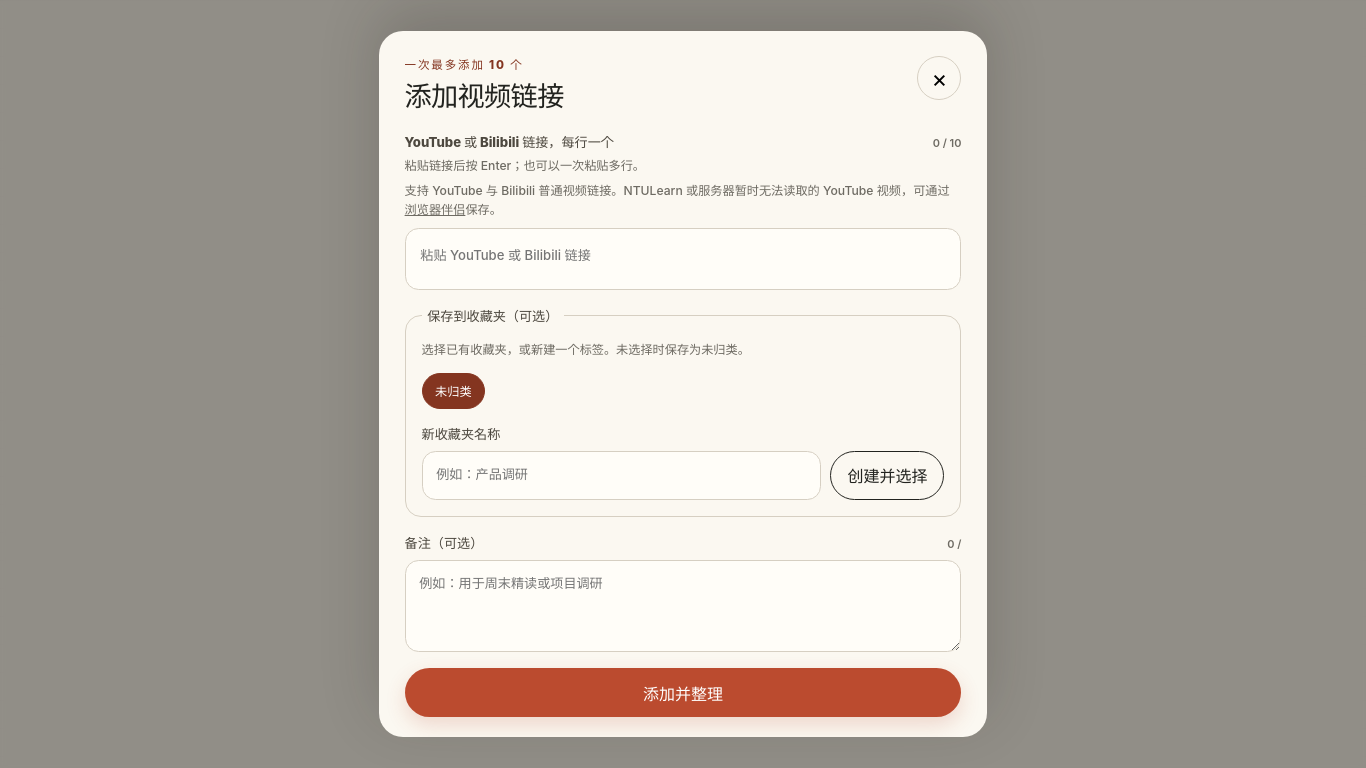
Scenario: add videos dialog › starts with a compact URL input and turns confirmed links into removable tags
The image size is (1366, 768).
Type "https://youtu.be/first" into the text box labelled "YouTube 或 Bilibili 链接，每行一个".
click(683, 258); type("https://youtu.be/first")  # box top-left (414, 237), bottom-right (952, 278)
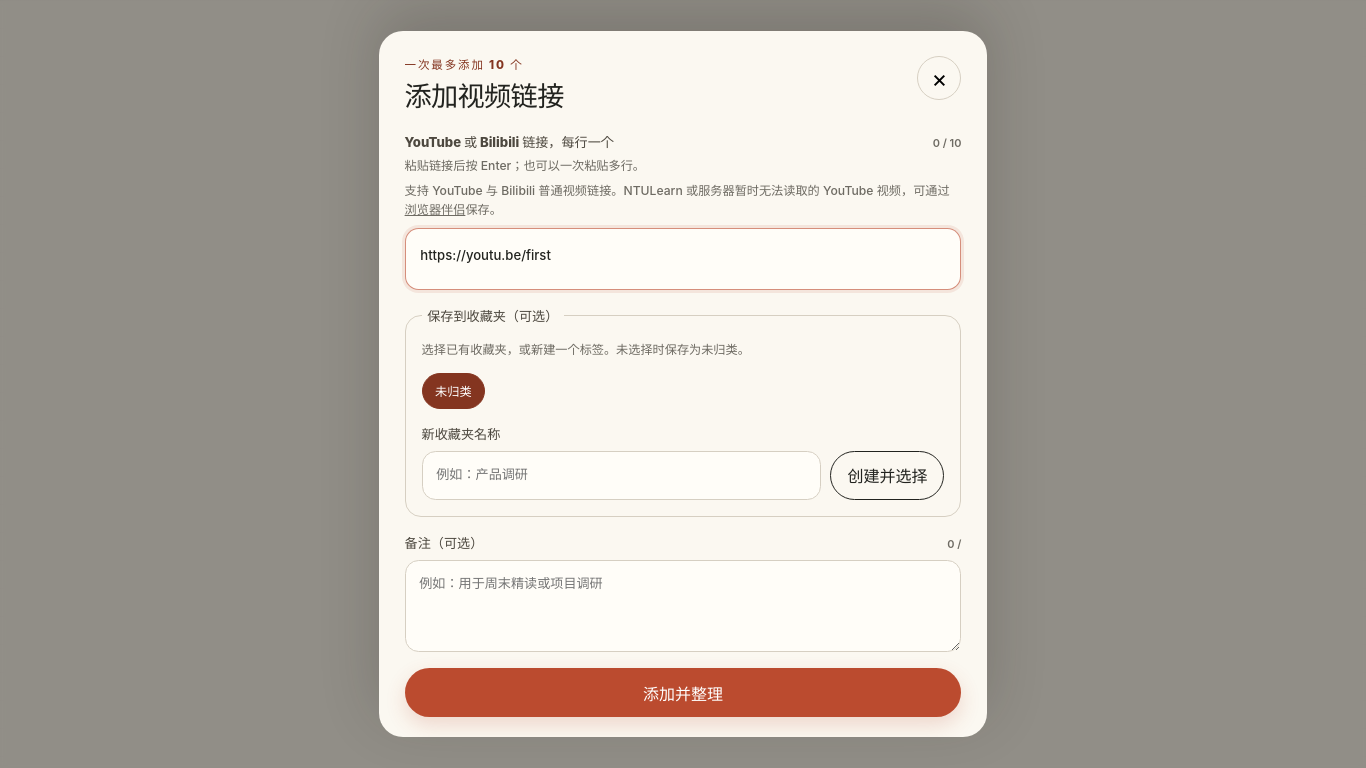
Press Enter
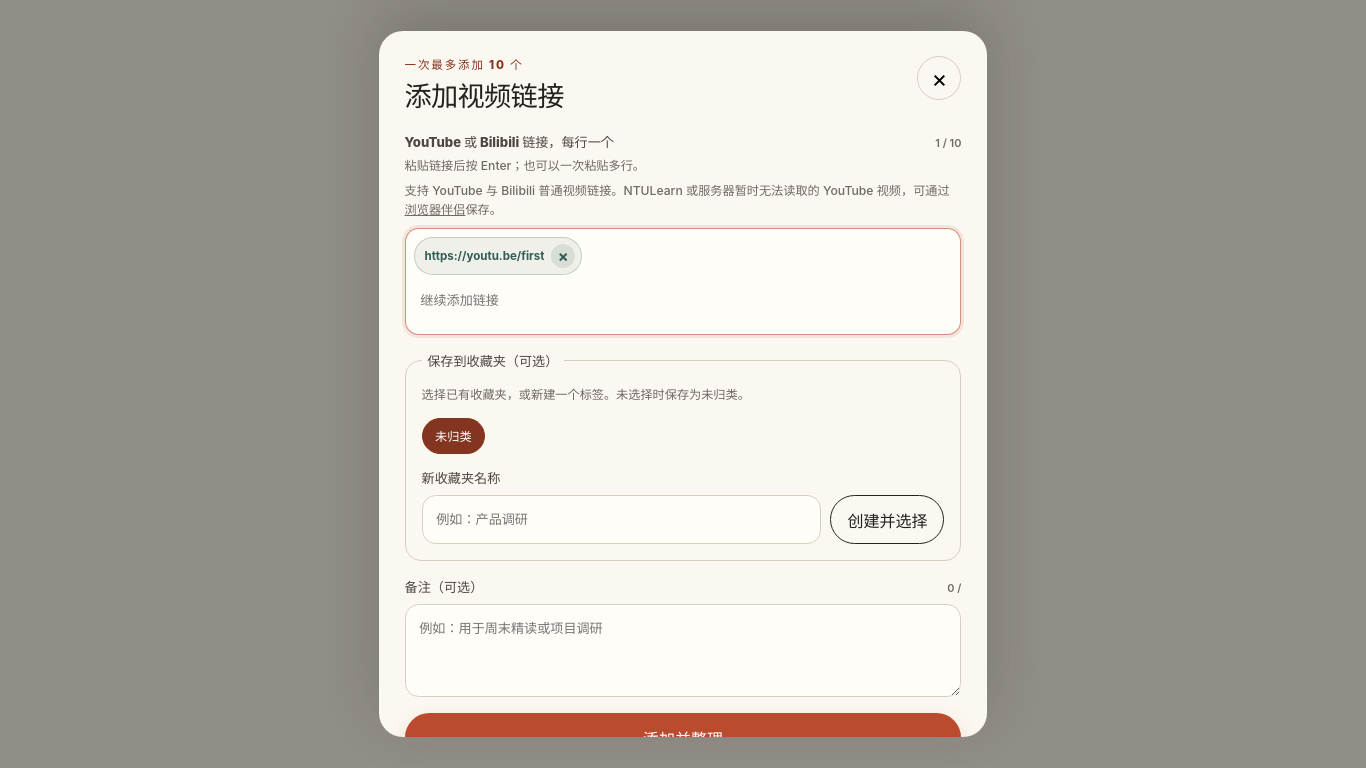
Expected: the text "https://youtu.be/first" is shown, top-left (424, 249), bottom-right (544, 263)
Expected: the text box labelled "YouTube 或 Bilibili 链接，每行一个" is empty
Type "https://www.youtube.com/watch?v=second" into the text box labelled "YouTube 或 Bilibili 链接，每行一个".
click(683, 302); type("https://www.youtube.com/watch?v=second")  # box top-left (414, 282), bottom-right (952, 323)
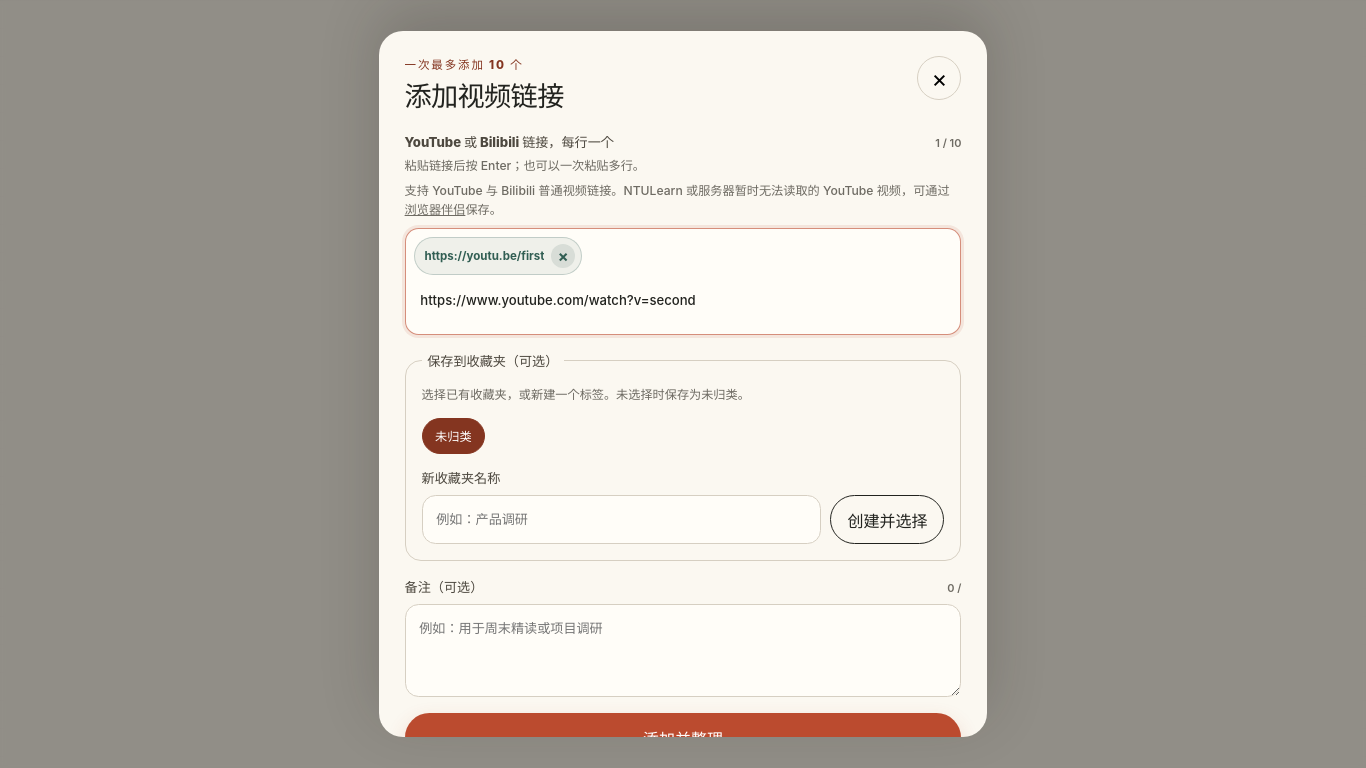
Press Enter
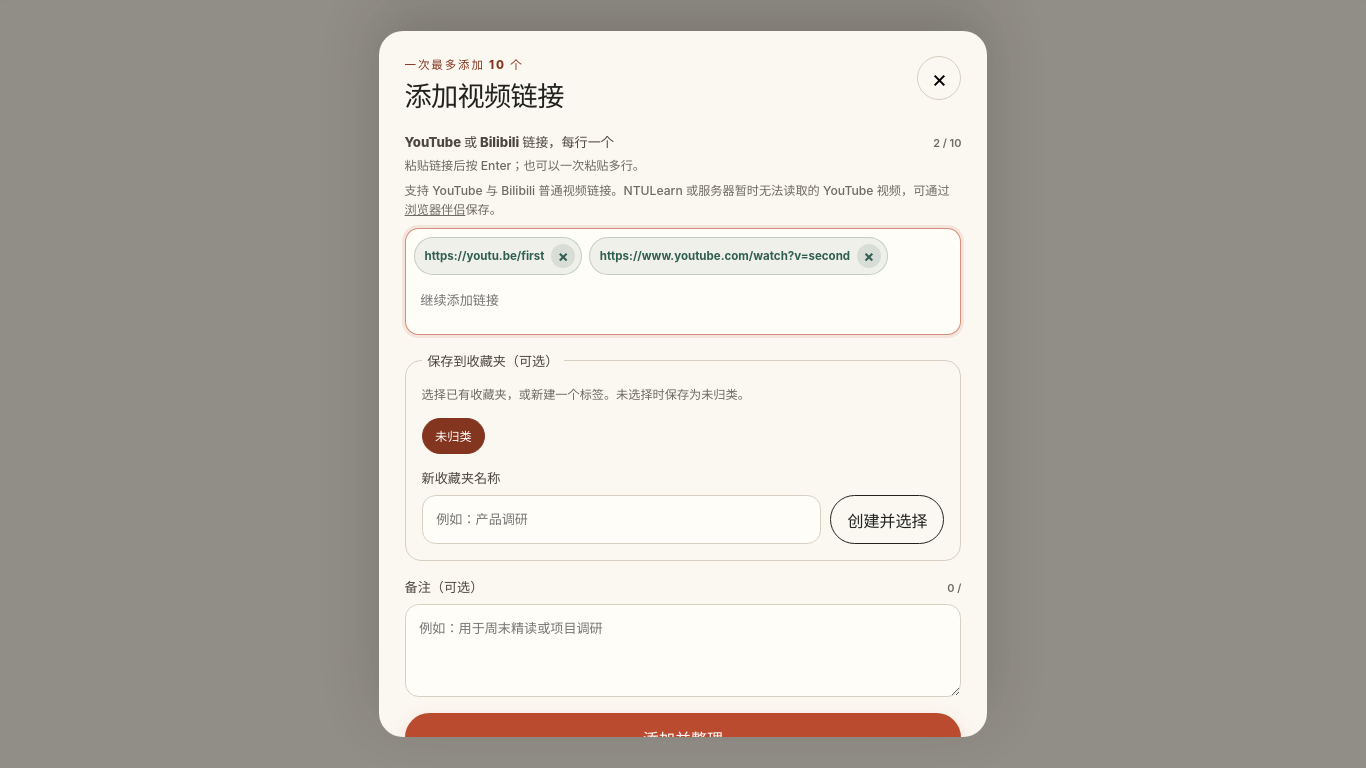
Expected: the text "https://www.youtube.com/watch?v=second" is shown, top-left (600, 249), bottom-right (850, 263)
Expected: the text "2 / 10" is shown, top-left (933, 136), bottom-right (961, 150)
Click the button named "移除链接 1".
click(563, 256)  # box top-left (551, 244), bottom-right (575, 268)
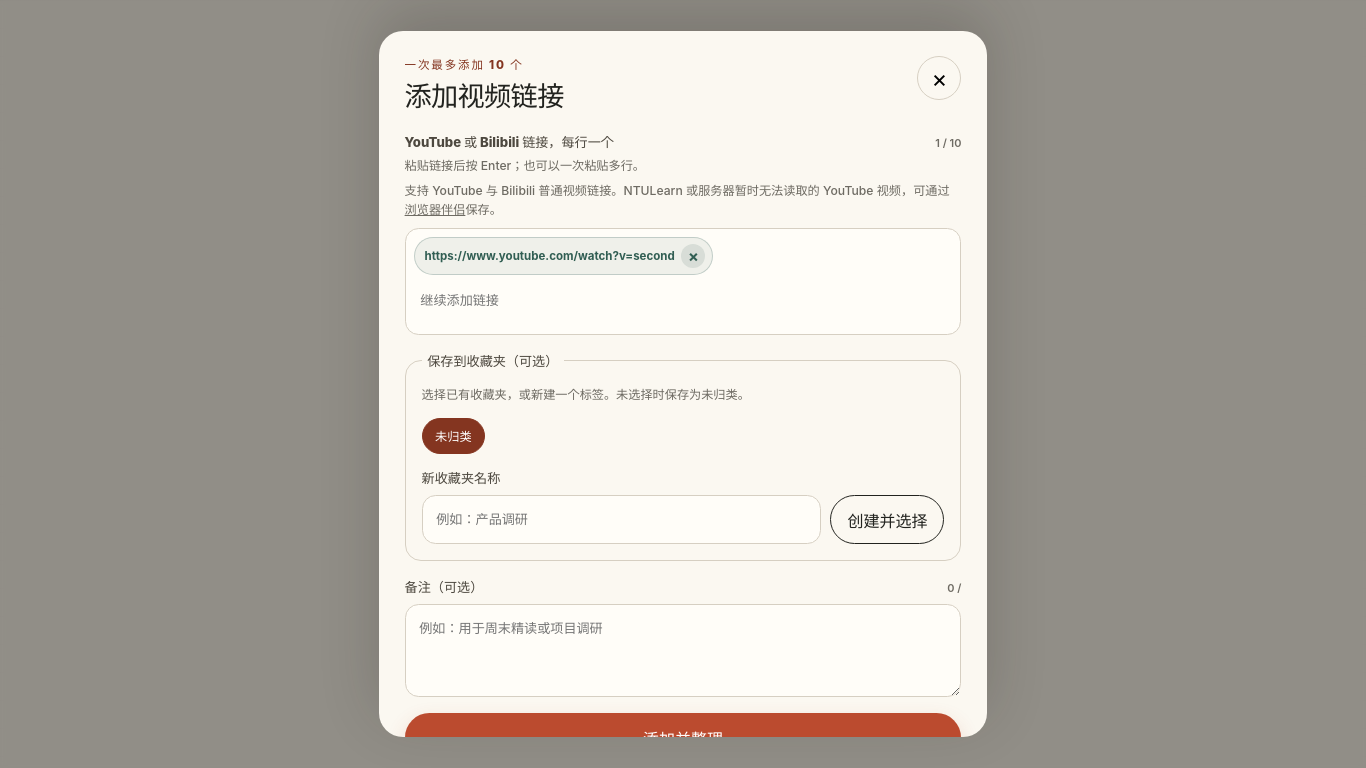
Expected: the text "https://www.youtube.com/watch?v=second" is shown, top-left (424, 249), bottom-right (675, 263)
Expected: the text "https://youtu.be/first" is gone
